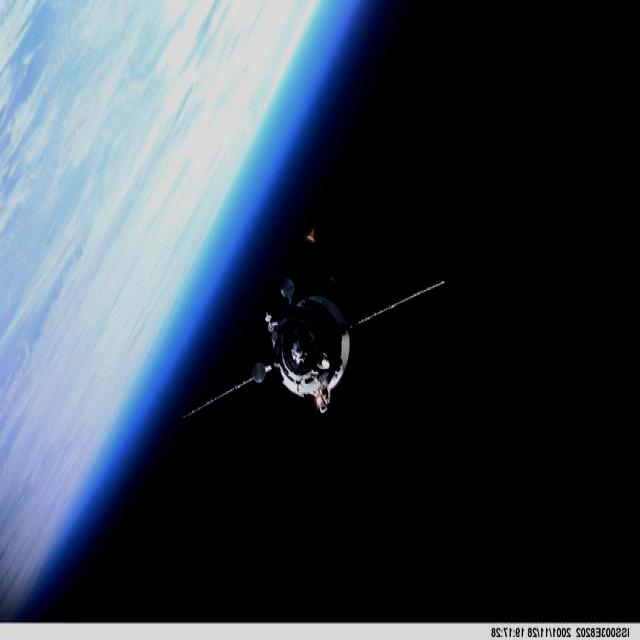medium_debris: (182, 276, 446, 418)
